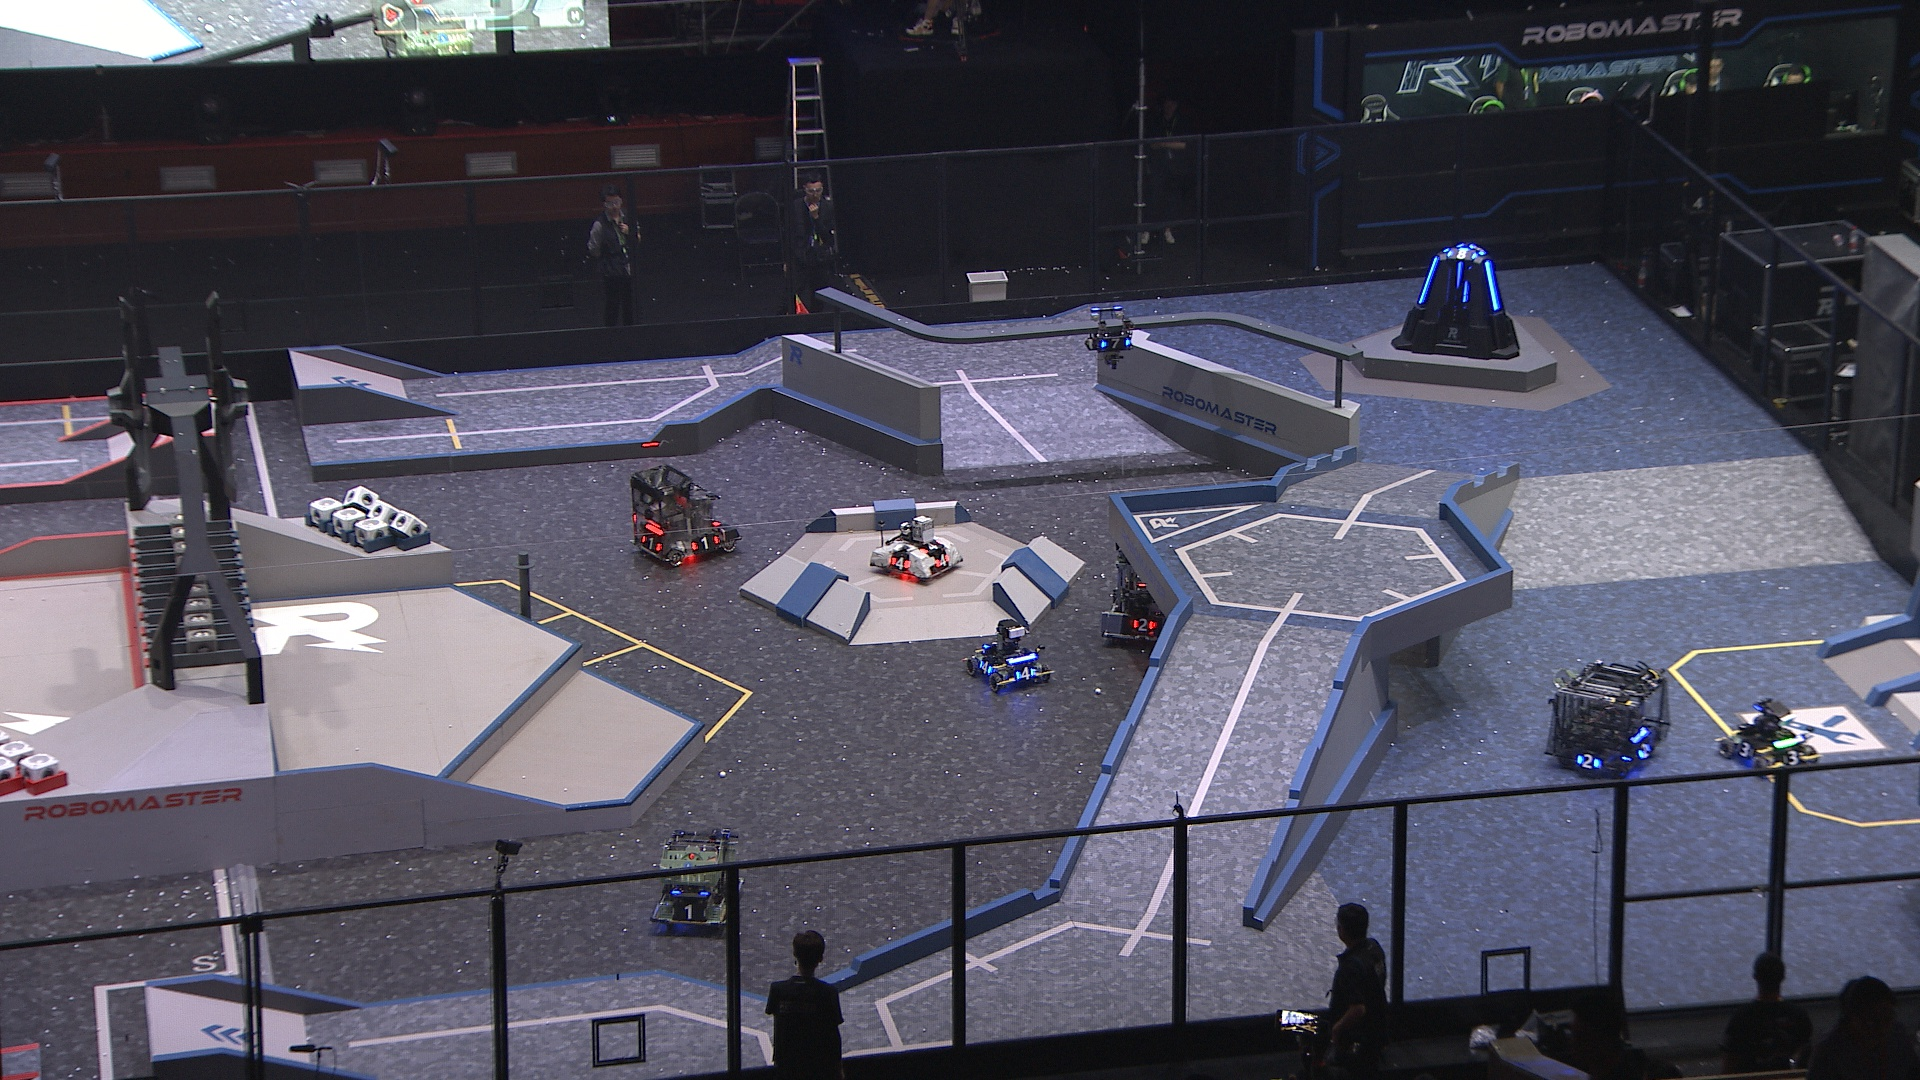armor: (1415, 256, 1443, 309), (1482, 258, 1501, 311), (673, 899, 707, 920), (1097, 338, 1134, 353), (690, 534, 721, 553), (1130, 616, 1159, 636), (1444, 247, 1480, 261), (638, 533, 662, 553), (1576, 752, 1600, 770), (1735, 740, 1755, 760), (1634, 742, 1656, 760), (889, 555, 913, 571), (1453, 262, 1466, 290), (1784, 749, 1803, 767), (977, 659, 994, 678), (1015, 665, 1035, 680), (920, 538, 942, 553), (1458, 278, 1472, 301), (934, 553, 951, 568)
base: (1393, 245, 1522, 361)
car: (1542, 659, 1669, 782), (1098, 534, 1207, 650), (626, 462, 742, 568), (647, 828, 746, 930), (1714, 698, 1822, 777), (963, 618, 1058, 694), (865, 516, 961, 585)
ignore: (377, 7, 472, 58)
watcher: (1087, 305, 1135, 368)
